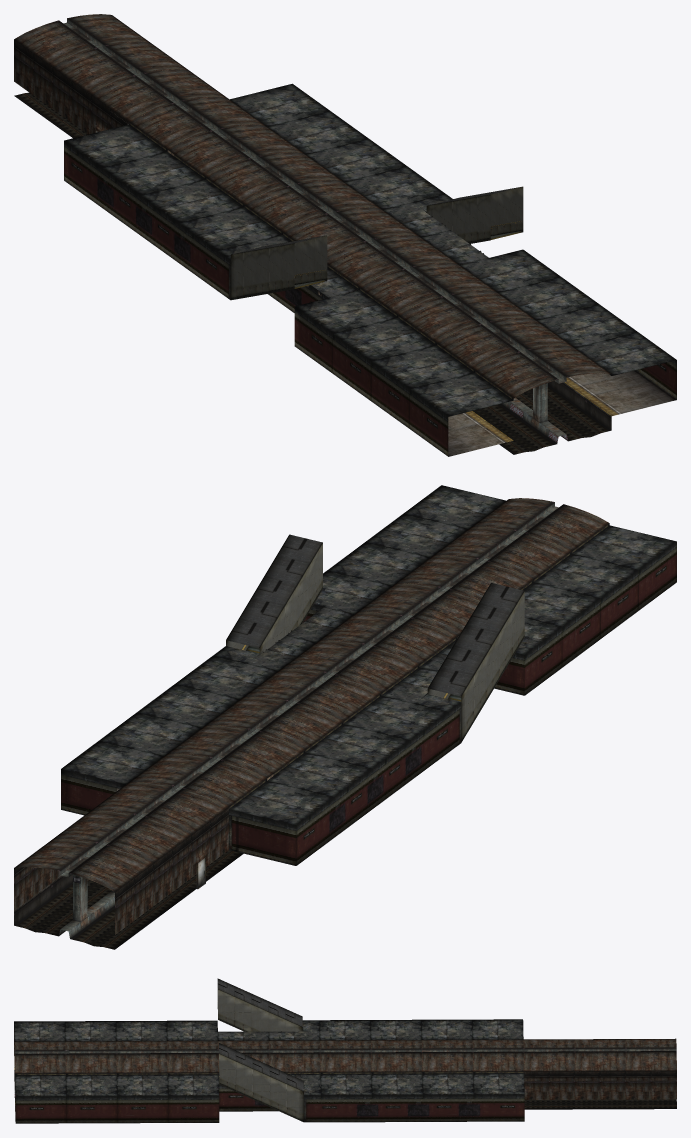
File: subway-station.obj
3 views of the same model, one above another, from view 1: azimuth 30°, elevation 25°; view 2: azimuth 150°, elevation 25°; view 3: azimuth 270°, elevation 25° (orthographic). The views are drawn at different scales.
Bounding box in the file's own units: 16.52 × 7.98 × 60.
Materials: 12 (12 with a texture image).
